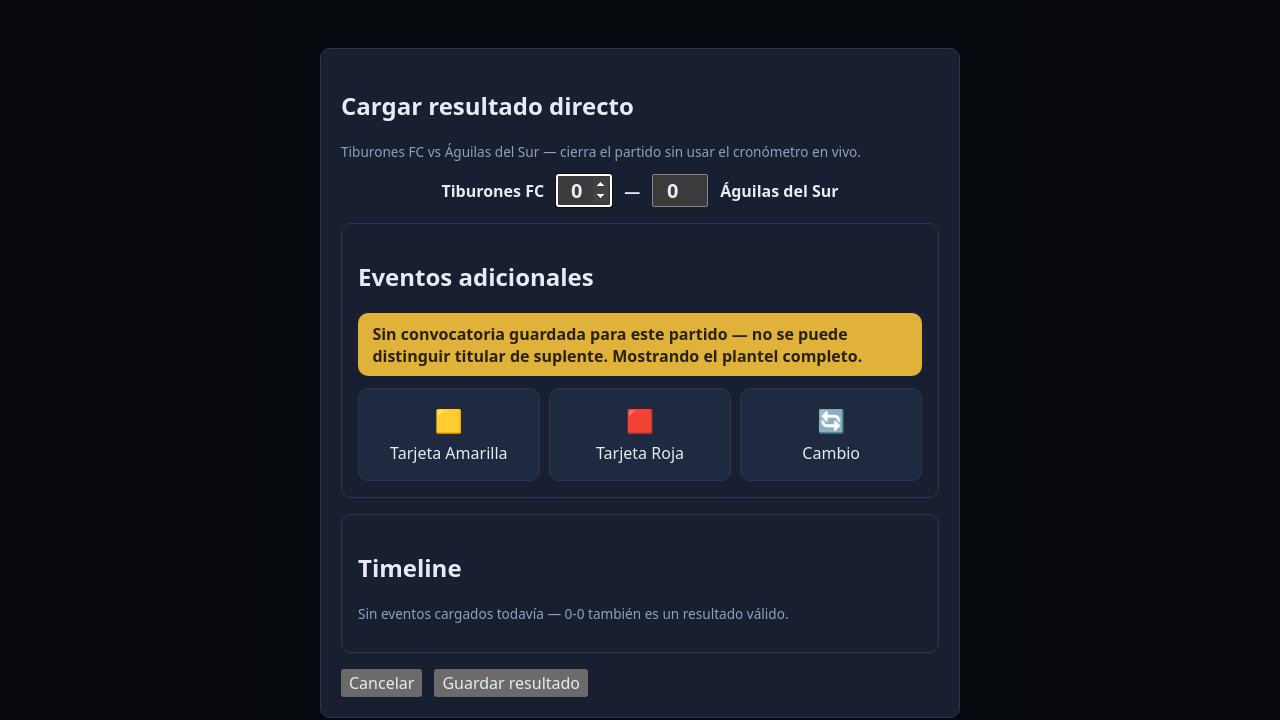
Test: ModalResultadoDirecto — slots por marcador › bajar el marcador con slots llenos pide confirmación explícita, nunca borra solo
This screenshot has width=1280, height=720.
Replace the text in the number field named "Goles Tiburones FC" with "2": [584, 191] box x1=556 y1=174 x2=612 y2=207
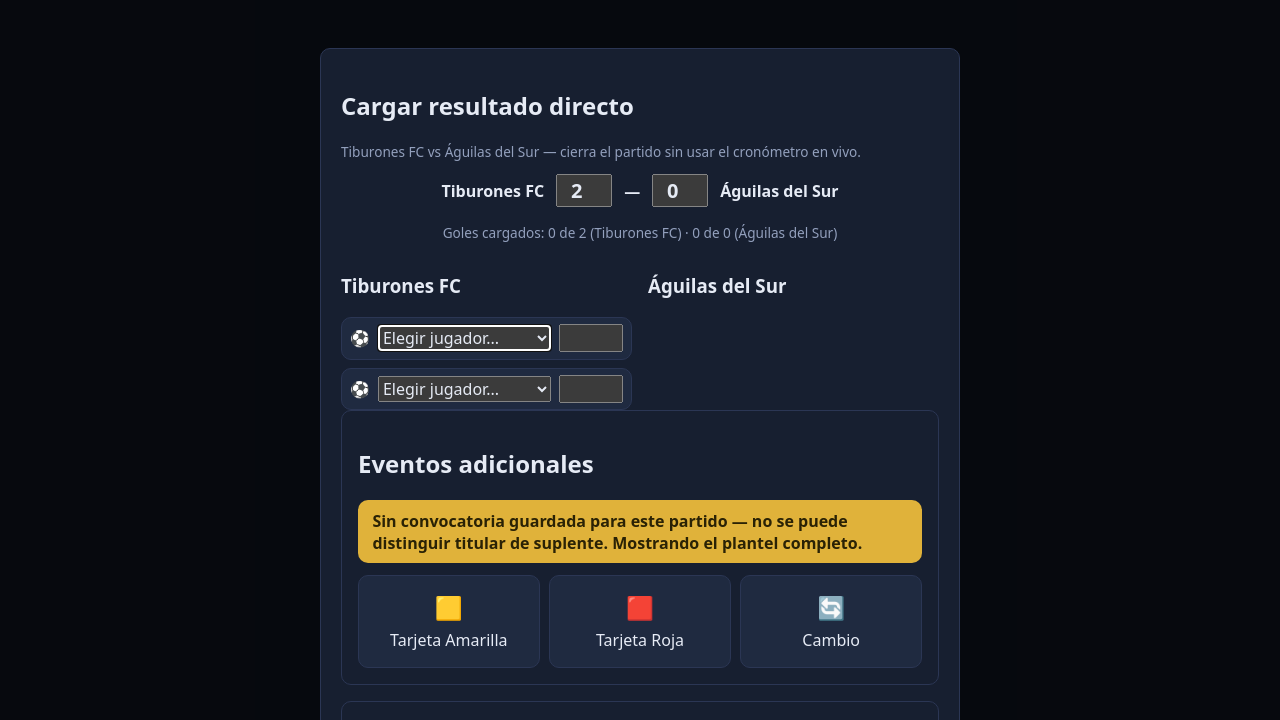
Select "#9 Andrés Vera" in the dropdown named "Goleador, Tiburones FC": [464, 338] box x1=378 y1=325 x2=551 y2=351
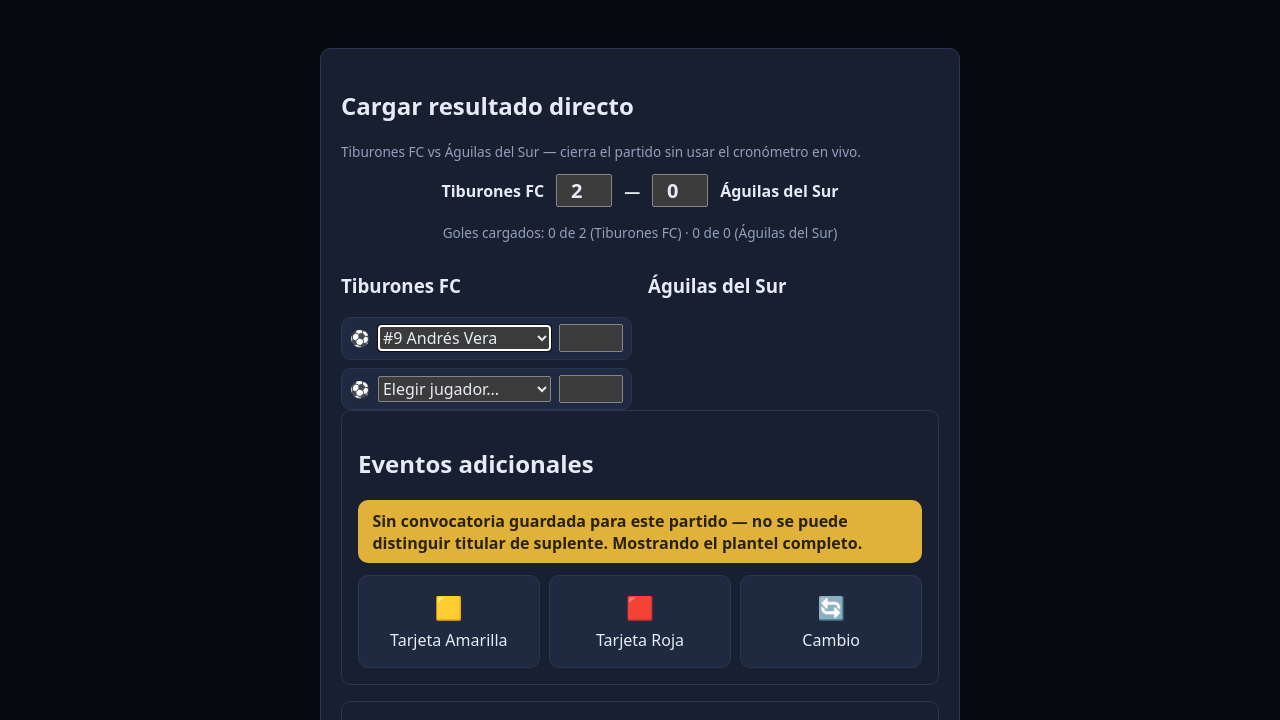
In the number field named "Minuto, Tiburones FC": [591, 338] box x1=559 y1=324 x2=623 y2=352, type "23"
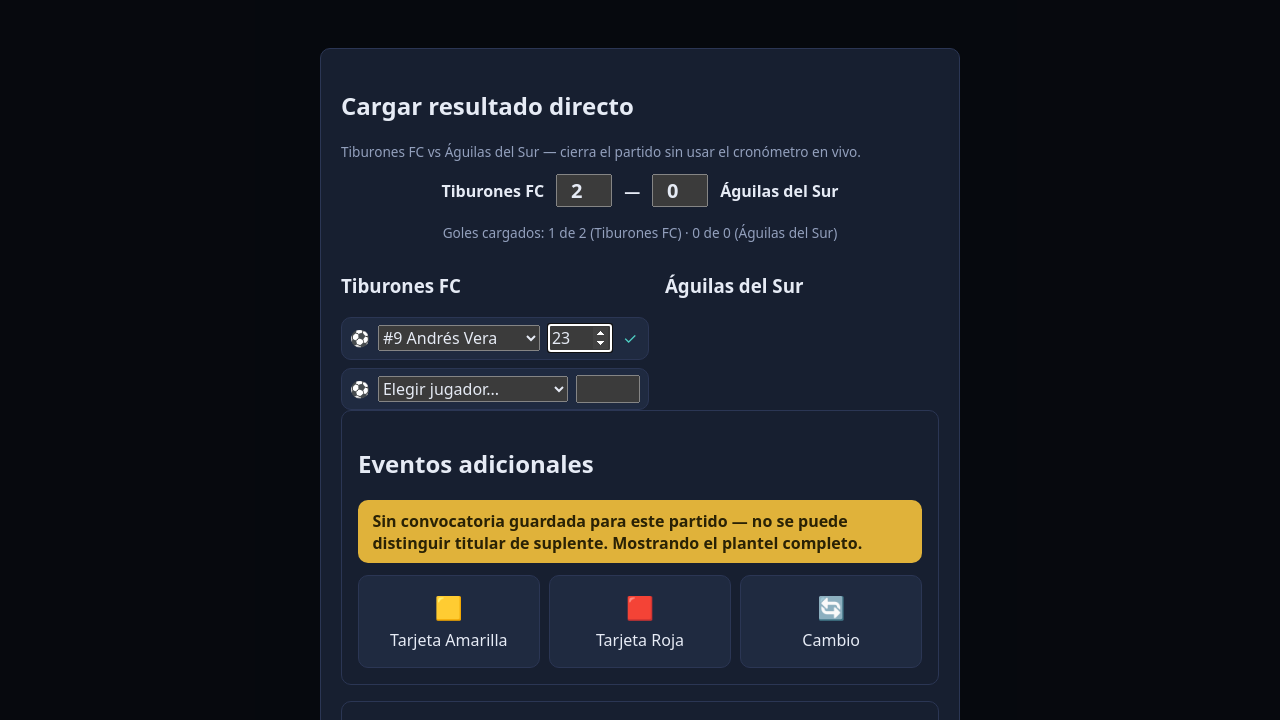
Replace the text in the number field named "Goles Tiburones FC" with "0": [584, 191] box x1=556 y1=174 x2=612 y2=207
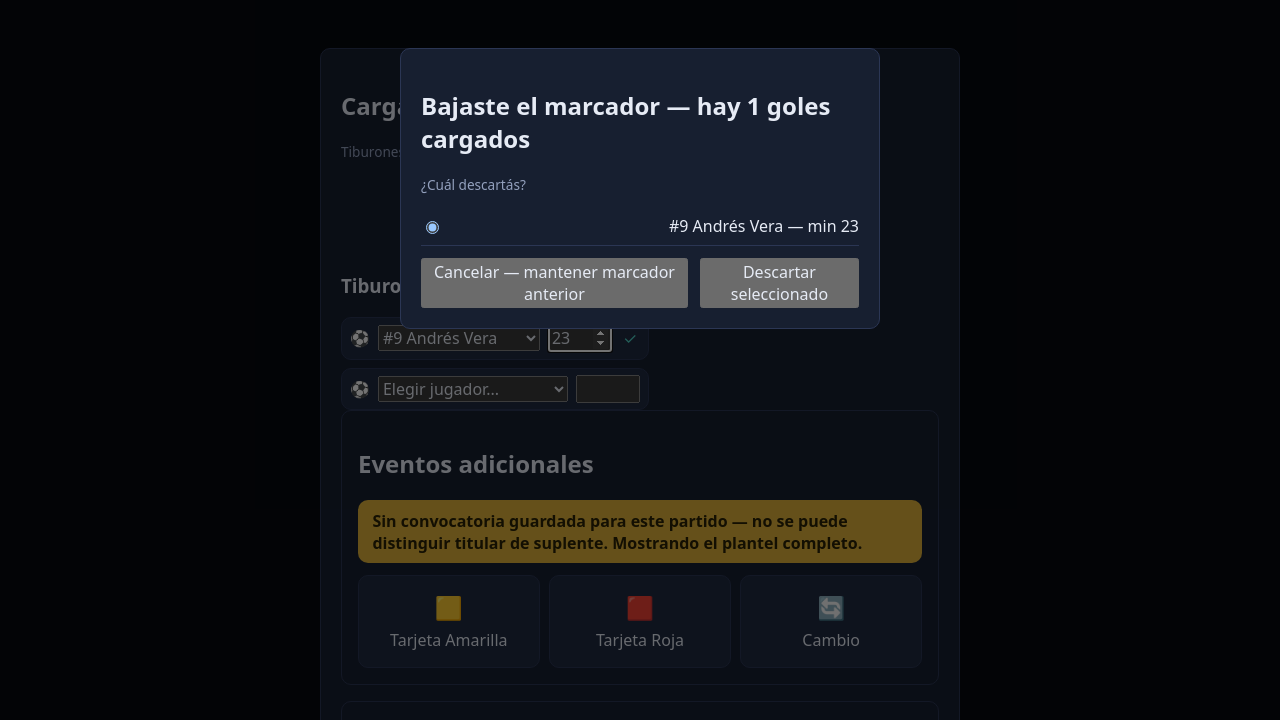
Check: the heading "Bajaste el marcador — hay 1 goles cargados" is shown, box x1=421 y1=89 x2=859 y2=155
Click the button "Cancelar — mantener marcador anterior": [554, 283] box x1=421 y1=258 x2=688 y2=308
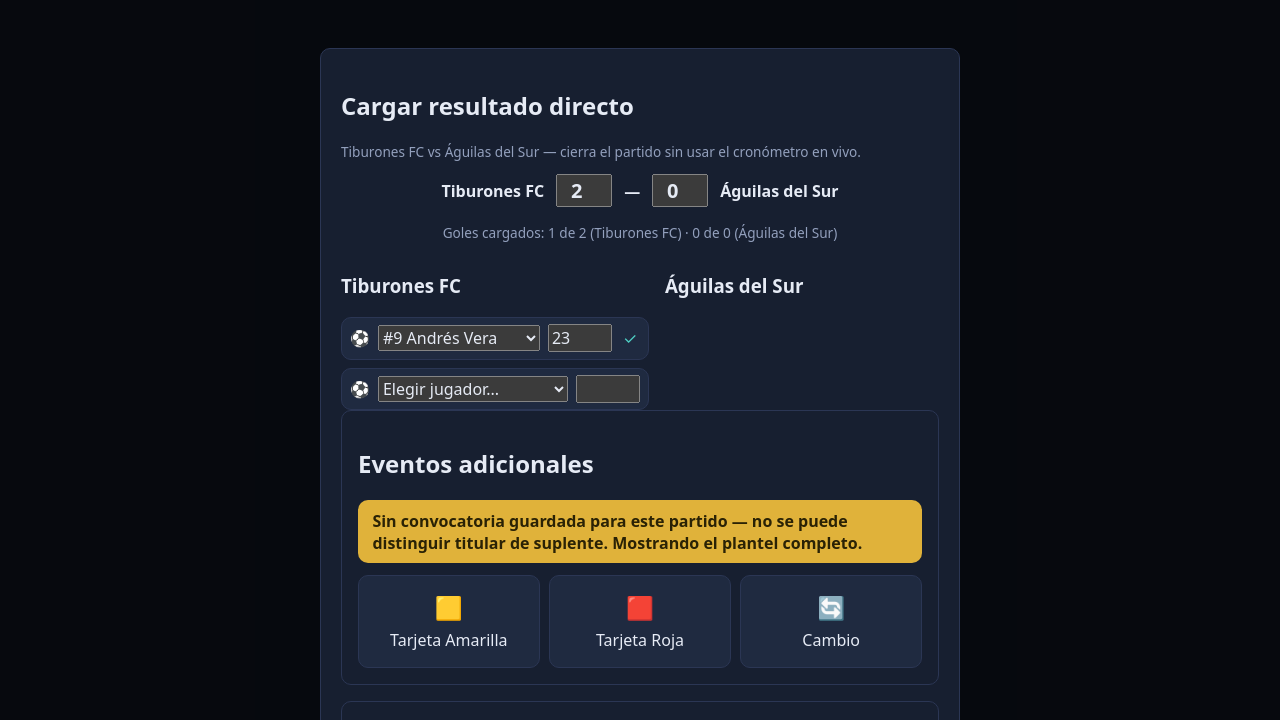
Check: the number of dropdowns named "Goleador, Tiburones FC" is 2, box x1=378 y1=325 x2=540 y2=351; x1=378 y1=376 x2=568 y2=402
Check: the heading "Bajaste el marcador" is gone
